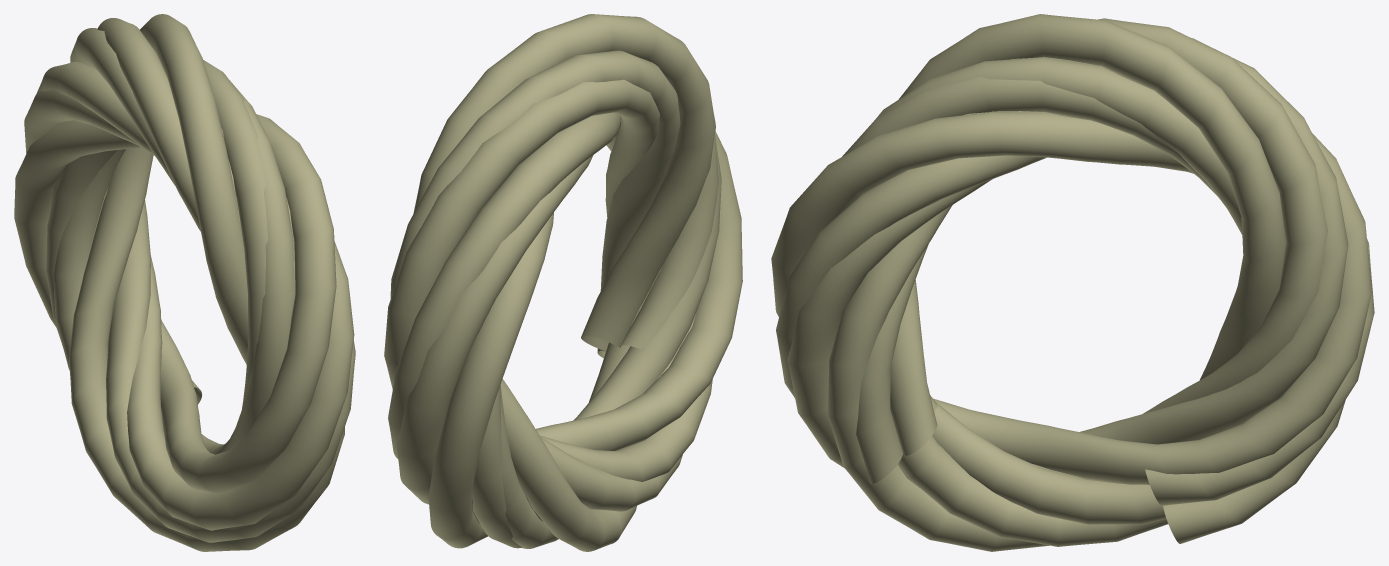
File: StoneWell_part_5.fbx
3 views of the same model, side by side, from view 1: azimuth 30°, elevation 25°; view 2: azimuth 150°, elevation 25°; view 3: azimuth 270°, elevation 25° (orthographic). The views are drawn at different scales.
Parts seen in each view (by area): view 1: Circle.004_Material_0.001; view 2: Circle.004_Material_0.001; view 3: Circle.004_Material_0.001.
Part boxes in pixels (x1,y1,x2,y2): Circle.004_Material_0.001: (14, 14, 355, 551); Circle.004_Material_0.001: (384, 14, 742, 551); Circle.004_Material_0.001: (771, 14, 1374, 551).
Size of the model in its own units: 31.83 by 126 by 129.
